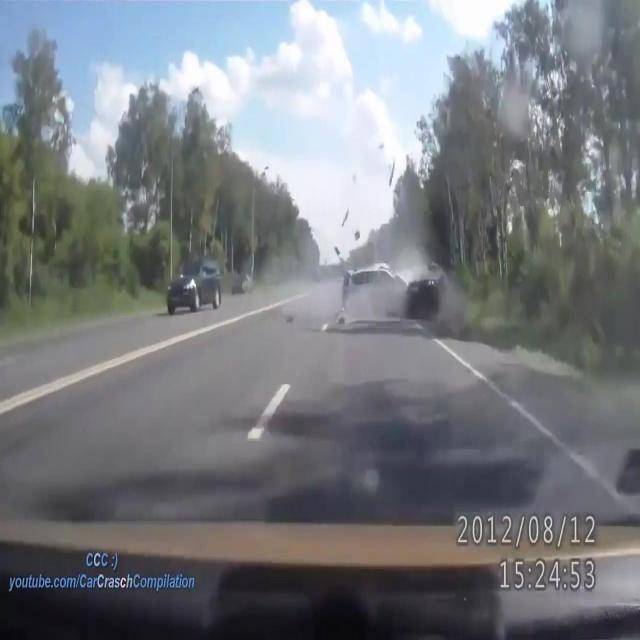accident: (340, 256, 450, 325)
